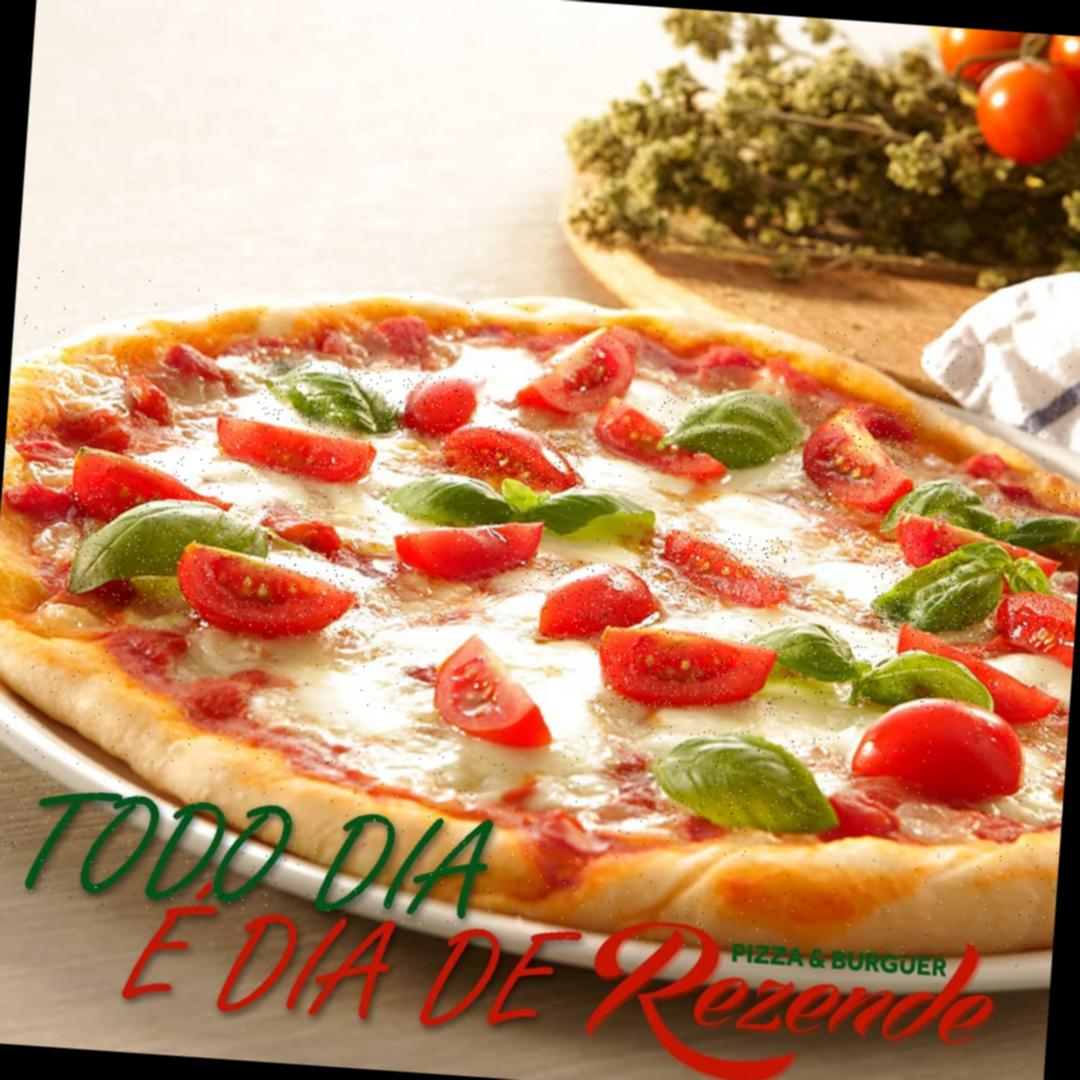Basil: (742, 614, 1003, 714), (66, 493, 274, 614), (646, 724, 847, 837), (385, 476, 663, 530), (877, 478, 1080, 549), (869, 540, 999, 636), (260, 358, 408, 438), (659, 386, 802, 465), (961, 535, 1057, 597)
Pizza: (0, 268, 1080, 972)
Tomatoes: (170, 543, 360, 644), (851, 694, 1028, 802), (892, 625, 1074, 728), (596, 625, 782, 717), (432, 633, 562, 754), (71, 446, 238, 540), (891, 515, 1064, 597), (800, 402, 922, 516), (512, 322, 638, 423), (214, 414, 380, 486), (395, 512, 547, 586), (592, 401, 731, 481), (540, 558, 663, 646), (438, 422, 584, 495), (662, 530, 793, 609), (994, 594, 1077, 665), (403, 372, 477, 440)
